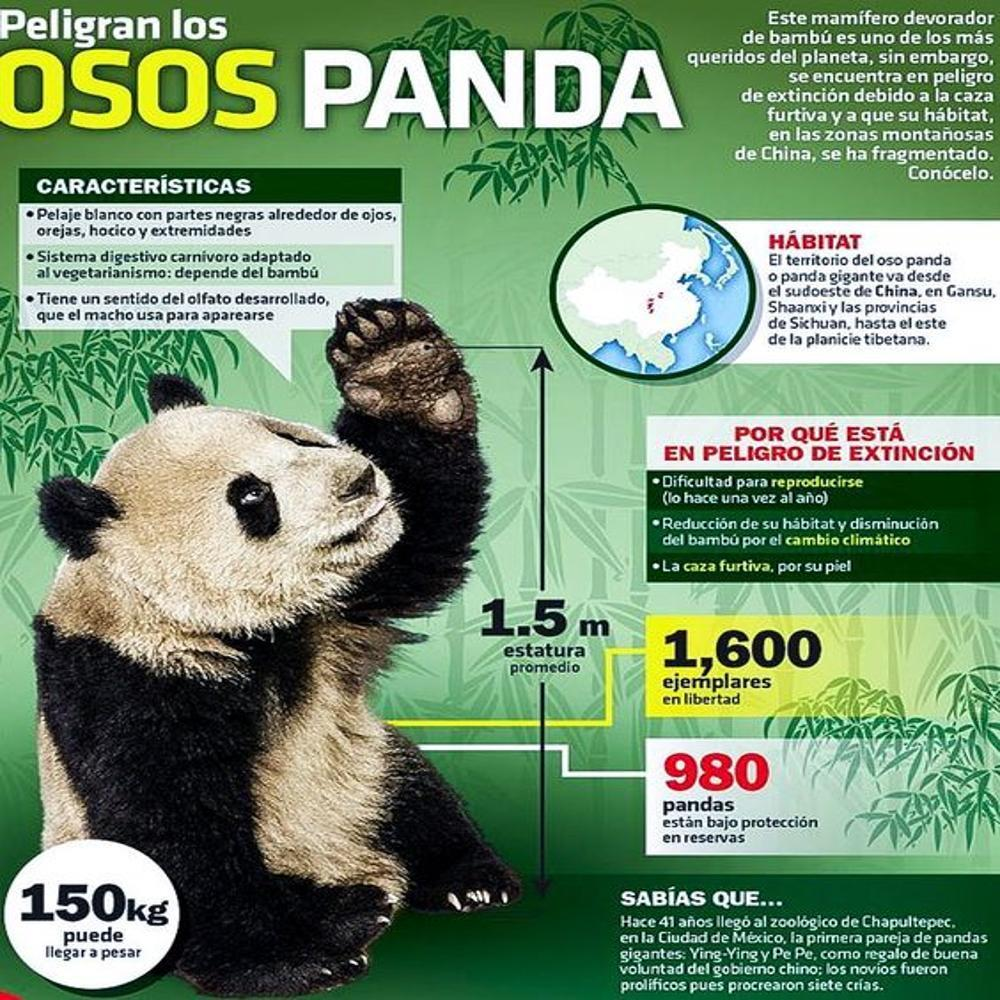panda: (30, 284, 528, 994)
